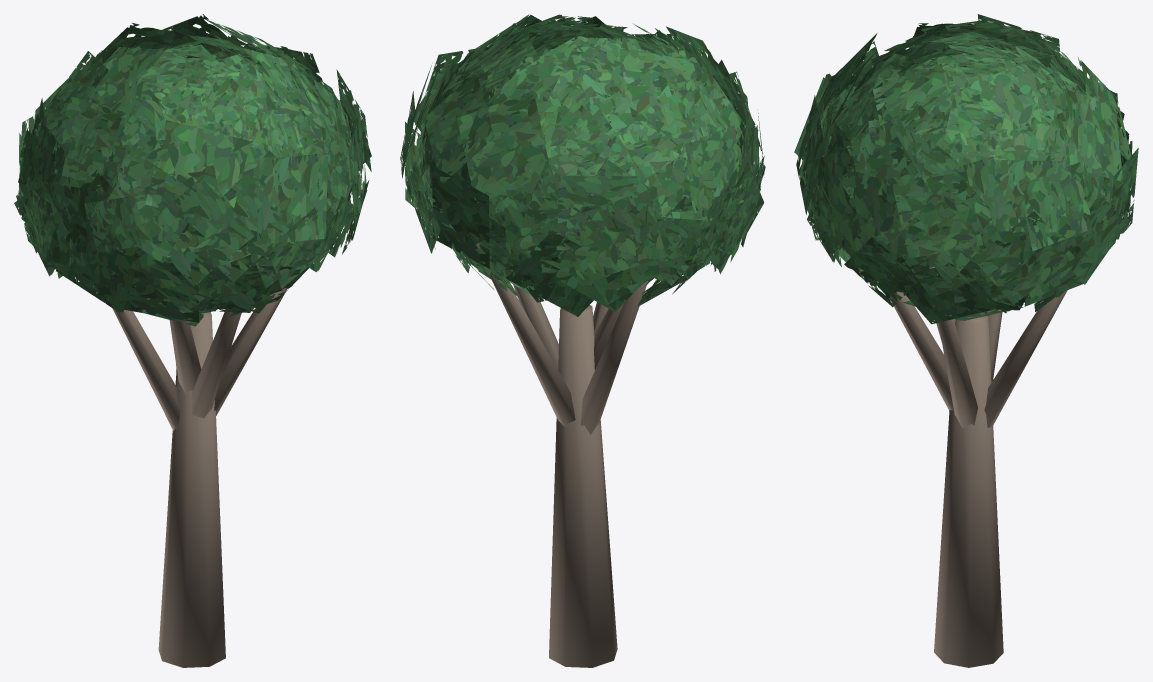
The model's file is veg-tree-broadleaf-a.glb.
The picture shows the model from 3 angles, left to right: view 1: azimuth 30°, elevation 25°; view 2: azimuth 150°, elevation 25°; view 3: azimuth 270°, elevation 25°; orthographic projection.
Parts seen in each view (by area): view 1: leaf-cards, trunk; view 2: leaf-cards, trunk; view 3: leaf-cards, trunk.
Boxes of the visible parts, x1=… form: leaf-cards: x1=14, y1=14, x2=371, y2=326; trunk: x1=112, y1=284, x2=287, y2=667; leaf-cards: x1=400, y1=14, x2=765, y2=316; trunk: x1=474, y1=242, x2=648, y2=667; leaf-cards: x1=794, y1=14, x2=1138, y2=324; trunk: x1=890, y1=266, x2=1067, y2=667.
Bounding box in the file's own units: 3.53 × 6.59 × 3.36.
Materials: 3 (1 with a texture image).
